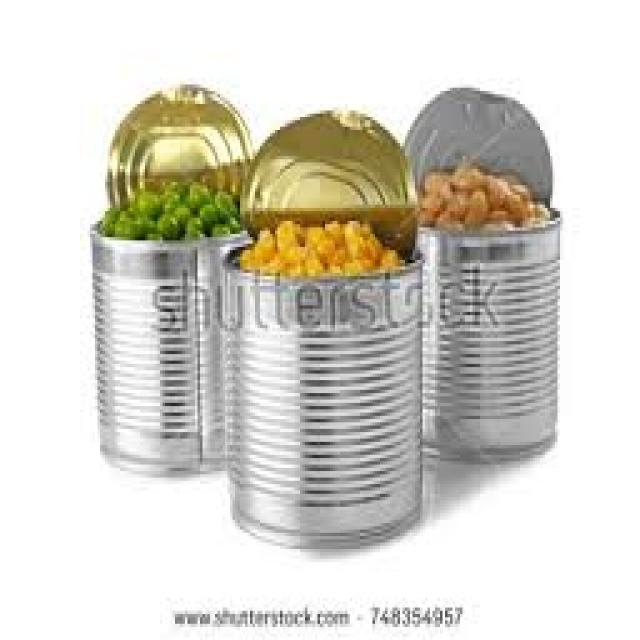organic waste: (413, 159, 545, 221), (235, 218, 400, 263), (95, 179, 230, 227)
